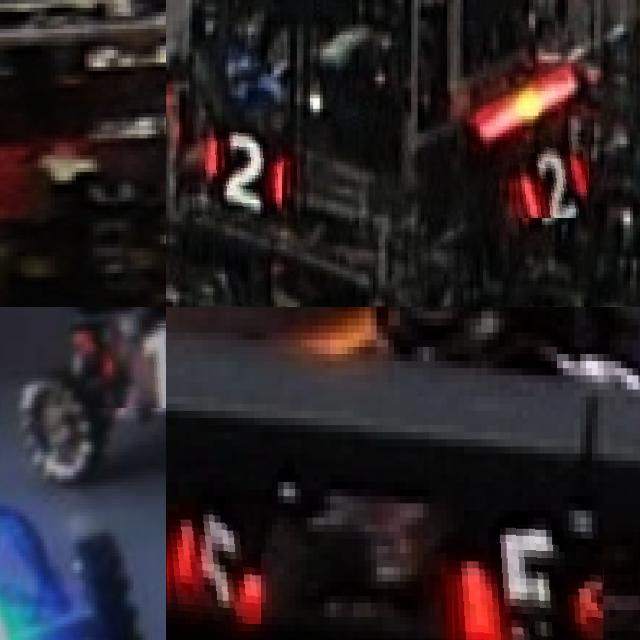R1: (88, 320, 166, 408)
R2: (188, 116, 282, 218), (508, 130, 589, 218)
R5: (446, 517, 603, 640), (166, 503, 260, 624)
